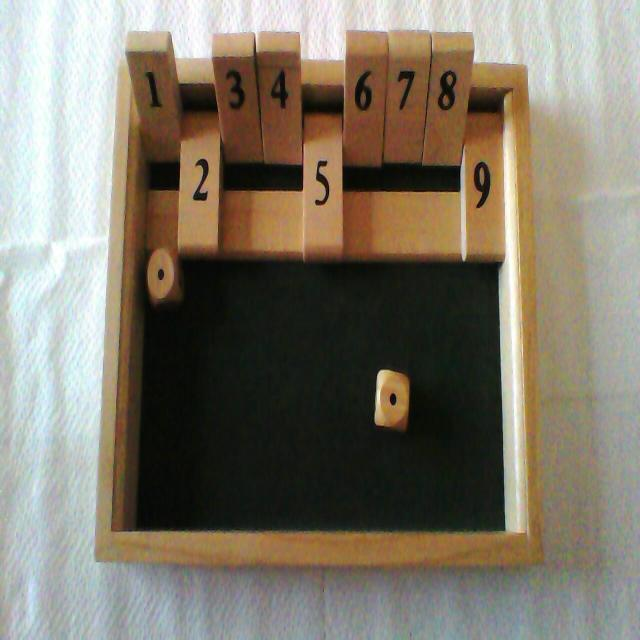1: (371, 365, 412, 436), (142, 244, 182, 308)
C2: (178, 58, 218, 256)
C5: (304, 58, 343, 264)
C9: (466, 63, 505, 261)
O1: (124, 30, 178, 243)
O3: (212, 32, 262, 262)
O4: (258, 31, 302, 262)
O6: (343, 30, 388, 261)
O7: (383, 30, 430, 263)
O8: (422, 32, 474, 261)
